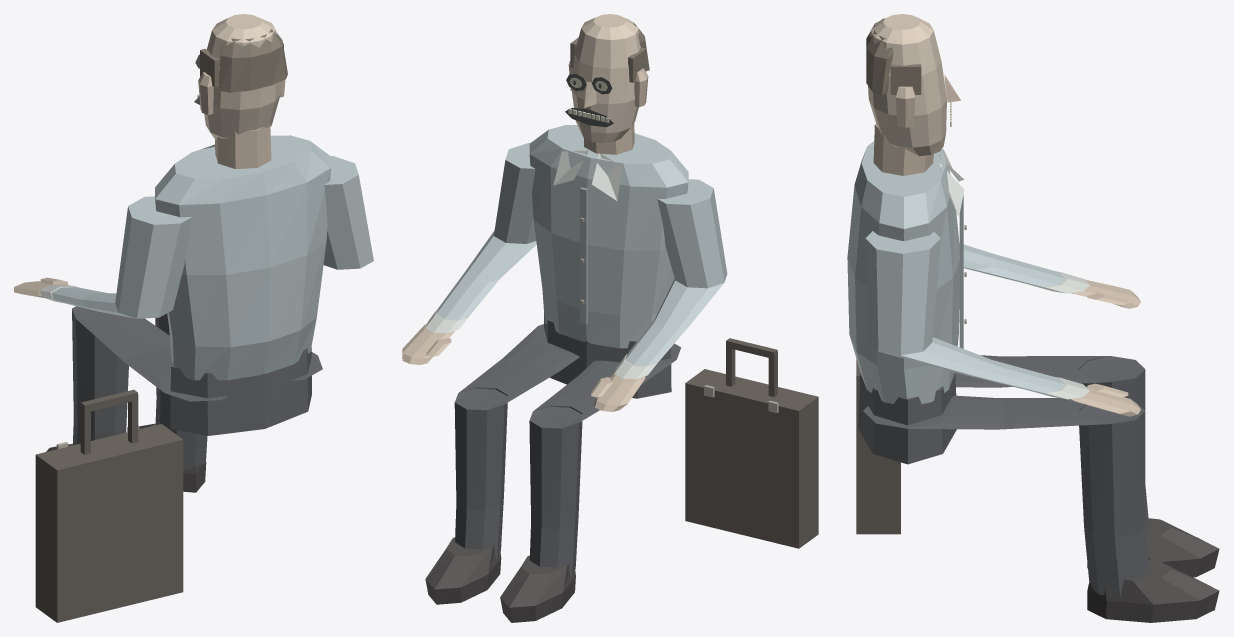
File: 01_grinning_clerk_seated.gltf
The picture shows the model from 3 angles, left to right: view 1: azimuth 30°, elevation 25°; view 2: azimuth 150°, elevation 25°; view 3: azimuth 270°, elevation 25°; orthographic projection. The views are drawn at different scales.
Parts seen in each view (by area): view 1: shirt_torso_5, briefcase_28, L_trouser_0, left_sleeve_6, pelvis_4, head_15, right_sleeve_10, hair_back_24, neck_14, R_trouser_2, handle_top_31, leather_shoe_3 (+3 smaller); view 2: shirt_torso_5, briefcase_28, R_trouser_2, L_trouser_0, left_sleeve_6, right_sleeve_10, head_15, leather_shoe_3, leather_shoe_1, pelvis_4, hand_8, shirt_placket_20 (+4 smaller); view 3: R_trouser_2, shirt_torso_5, right_sleeve_10, head_15, leather_shoe_3, pelvis_4, L_trouser_0, briefcase_28, leather_shoe_1, left_sleeve_6, neck_14, hair_back_24 (+7 smaller).
Part boxes in pixels (left/top/right/bottom): shirt_torso_5: left=155, top=135, right=330, bottom=380; briefcase_28: left=35, top=424, right=183, bottom=622; L_trouser_0: left=72, top=306, right=228, bottom=445; left_sleeve_6: left=51, top=196, right=192, bottom=318; pelvis_4: left=170, top=347, right=311, bottom=435; head_15: left=204, top=14, right=281, bottom=139; right_sleeve_10: left=323, top=156, right=373, bottom=269; hair_back_24: left=219, top=28, right=287, bottom=92; neck_14: left=215, top=123, right=271, bottom=168; R_trouser_2: left=155, top=313, right=322, bottom=469; handle_top_31: left=80, top=389, right=137, bottom=411; leather_shoe_3: left=139, top=423, right=206, bottom=492; shirt_torso_5: left=529, top=125, right=688, bottom=348; briefcase_28: left=685, top=369, right=818, bottom=548; R_trouser_2: left=454, top=324, right=579, bottom=558; L_trouser_0: left=529, top=343, right=680, bottom=577; left_sleeve_6: left=625, top=179, right=727, bottom=365; right_sleeve_10: left=436, top=143, right=536, bottom=319; head_15: left=571, top=14, right=640, bottom=143; leather_shoe_3: left=425, top=537, right=501, bottom=604; leather_shoe_1: left=500, top=555, right=575, bottom=622; pelvis_4: left=544, top=313, right=671, bottom=398; hand_8: left=594, top=372, right=645, bottom=411; shirt_placket_20: left=580, top=187, right=587, bottom=324; R_trouser_2: left=863, top=395, right=1149, bottom=597; shirt_torso_5: left=847, top=141, right=959, bottom=403; right_sleeve_10: left=865, top=231, right=1064, bottom=393; head_15: left=868, top=14, right=946, bottom=156; leather_shoe_3: left=1087, top=560, right=1219, bottom=622; pelvis_4: left=858, top=372, right=956, bottom=464; L_trouser_0: left=955, top=355, right=1149, bottom=530; briefcase_28: left=856, top=359, right=900, bottom=534; leather_shoe_1: left=1087, top=518, right=1219, bottom=577; left_sleeve_6: left=959, top=243, right=1064, bottom=287; neck_14: left=873, top=124, right=933, bottom=175; hair_back_24: left=866, top=18, right=893, bottom=94.
Size of the model in its own units: 0.85 by 1.32 by 0.788.
